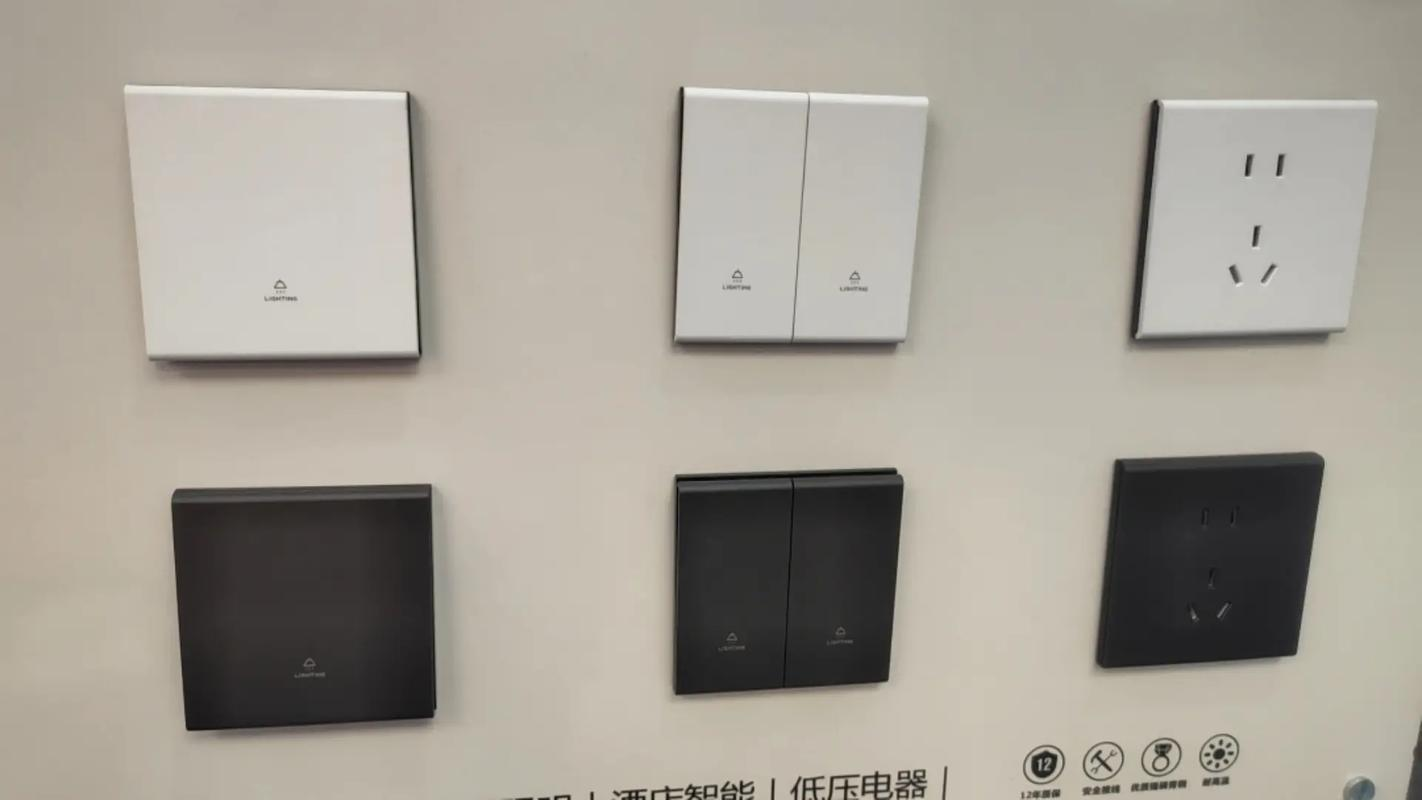button: (119, 85, 426, 361), (669, 85, 934, 348), (169, 484, 443, 731), (675, 472, 900, 696)
